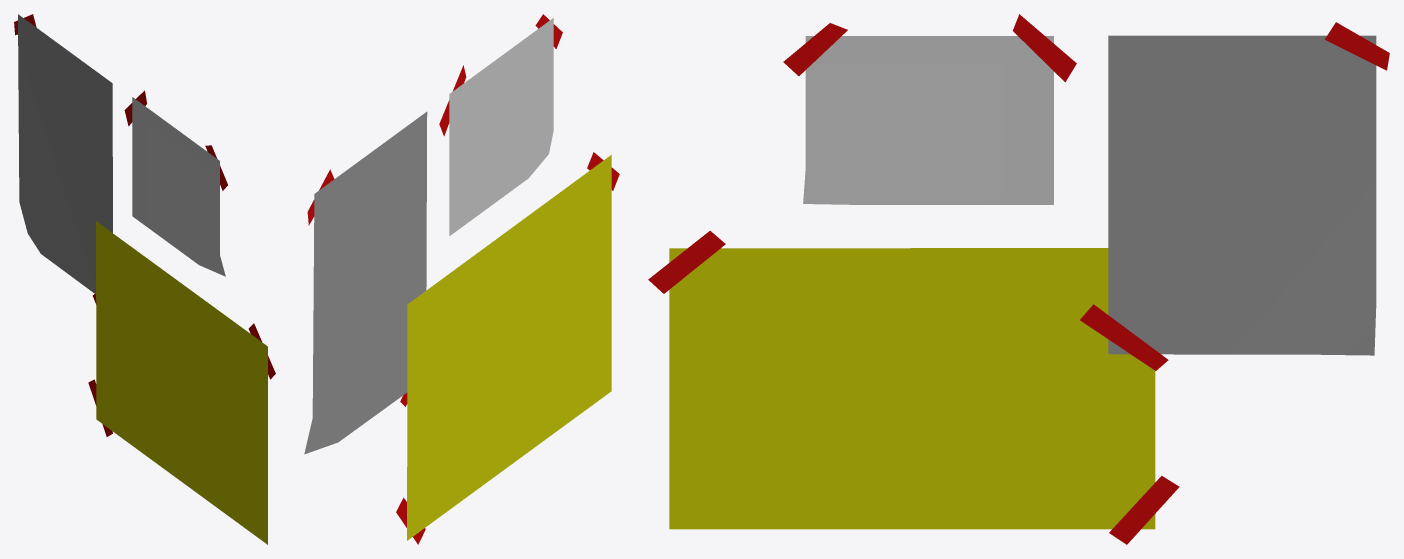
File: BedRoom_Posters.fbx
The picture shows the model from 3 angles, left to right: view 1: azimuth 30°, elevation 25°; view 2: azimuth 150°, elevation 25°; view 3: azimuth 270°, elevation 25°; orthographic projection. The views are drawn at different scales.
Visible parts, largest first — view 1: BedRoom_Posters; view 2: BedRoom_Posters; view 3: BedRoom_Posters.
Boxes of the visible parts, bbox=[...] form: BedRoom_Posters: bbox=[14, 14, 275, 544]; BedRoom_Posters: bbox=[304, 14, 619, 544]; BedRoom_Posters: bbox=[648, 14, 1389, 544].
Size of the model in its own units: 4 by 156 by 198.
